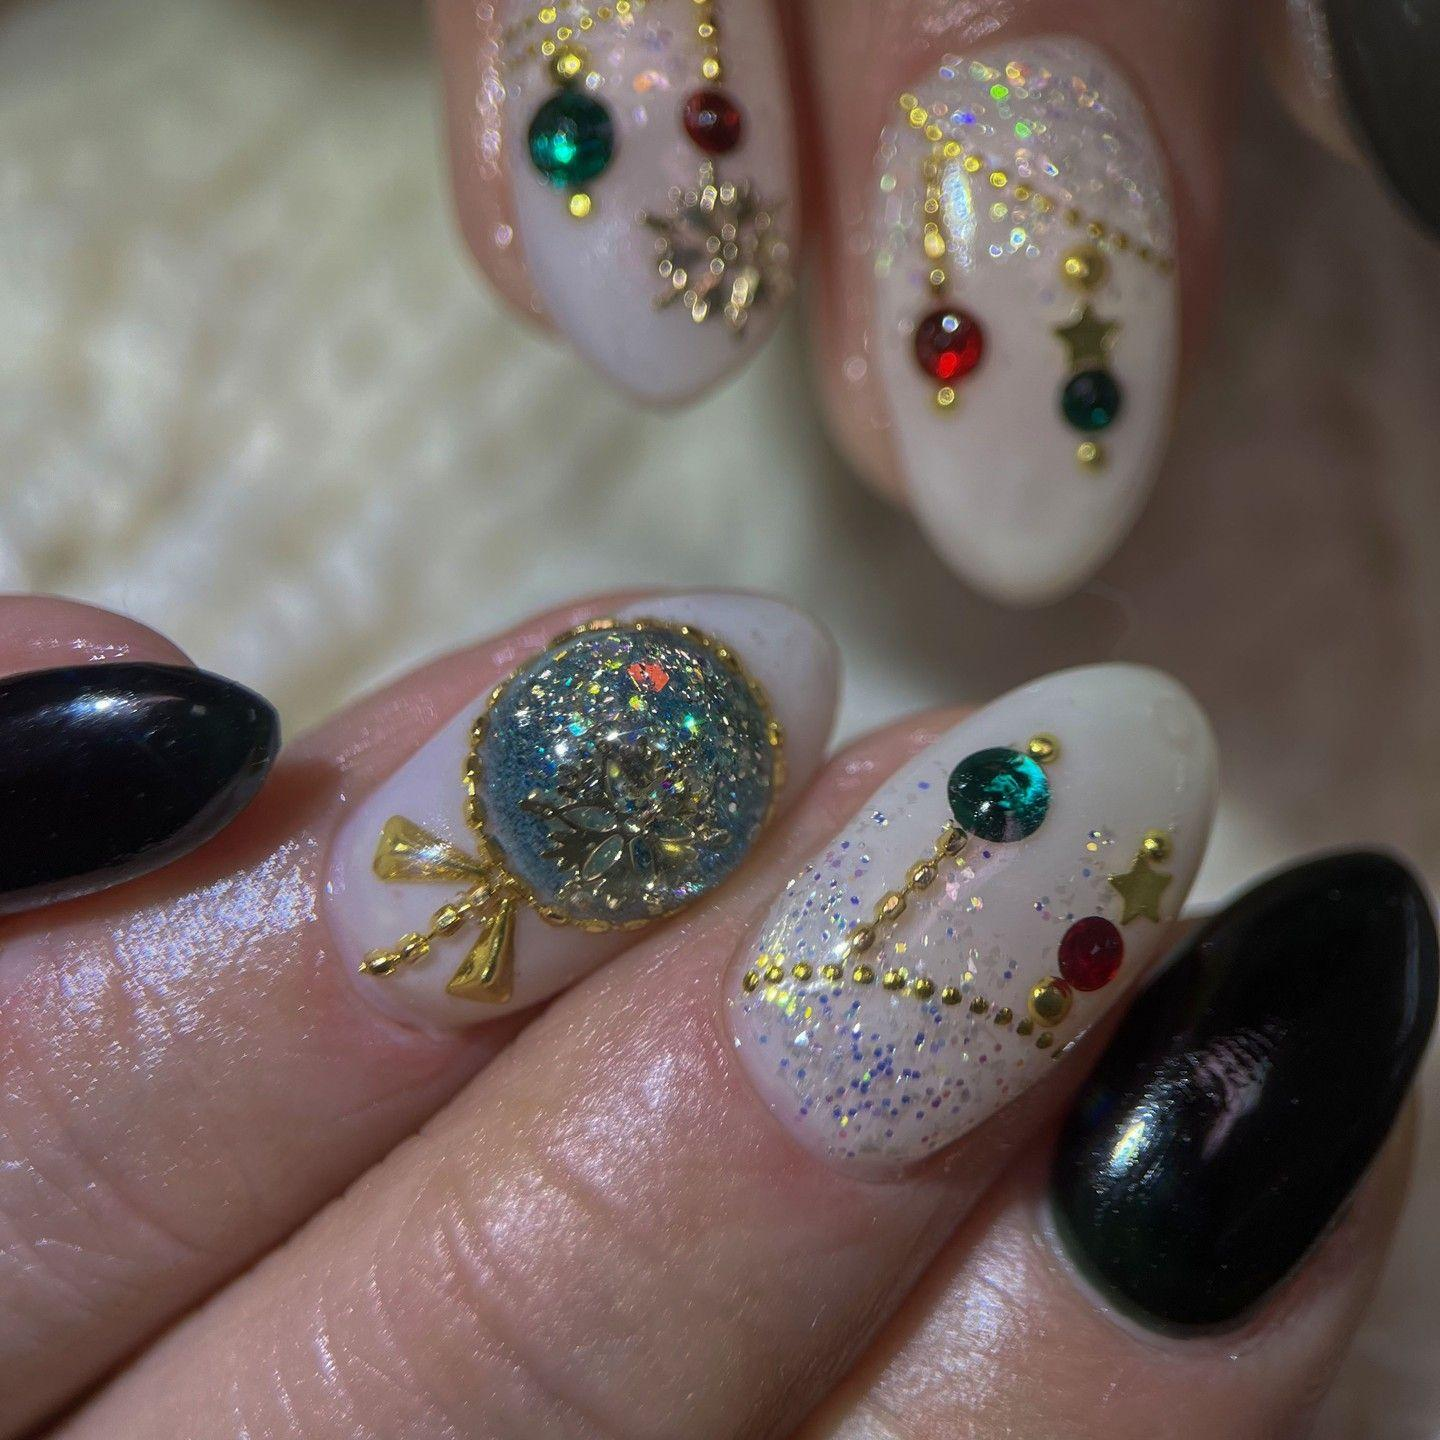nail: (721, 657, 1221, 1180), (324, 593, 835, 1025), (1040, 841, 1436, 1345), (872, 36, 1179, 600), (496, 0, 796, 405), (0, 657, 281, 915)
